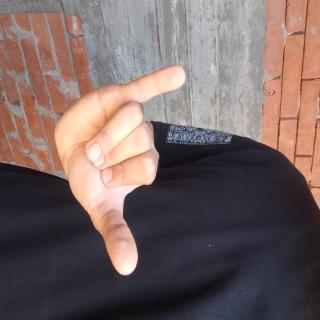YA: (45, 169, 210, 320)
